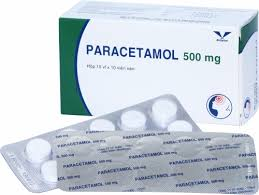Paracetamol: (82, 44, 175, 54)
